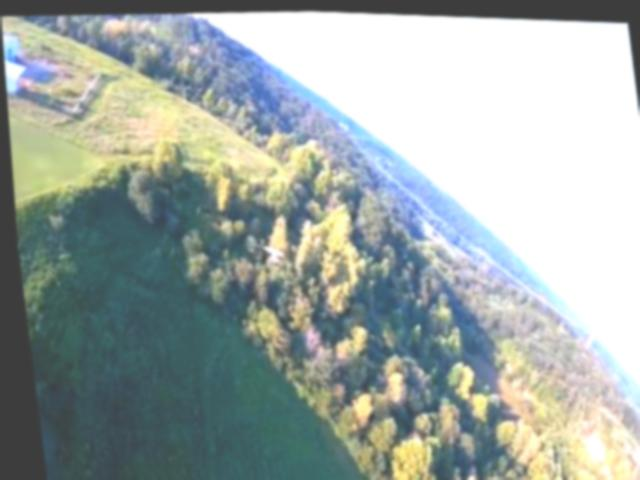uav: (253, 237, 286, 270)
